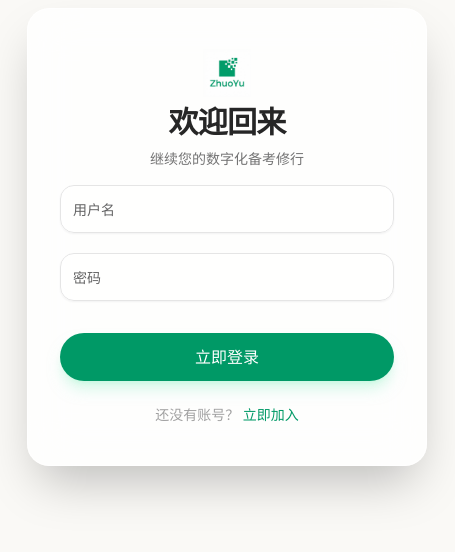
Test: LoginPage 集成测试 › 输入错误密码时，应显示服务器返回的错误信息
This screenshot has width=455, height=552.
Type "admin" into the field with placeholder "用户名" at (227, 209), box [60, 185, 394, 233]
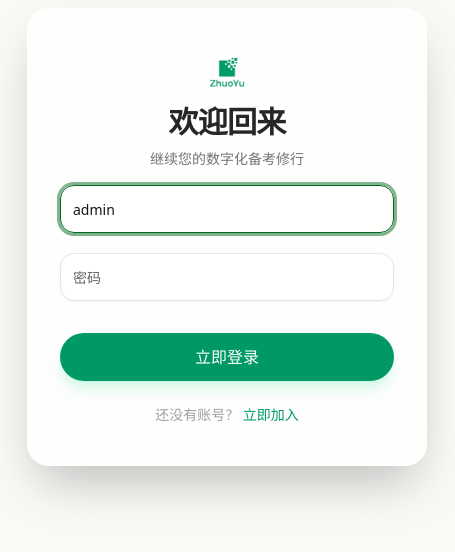
Type "wrong-password" into the password field with placeholder "密码" at (227, 277), box [60, 253, 394, 301]
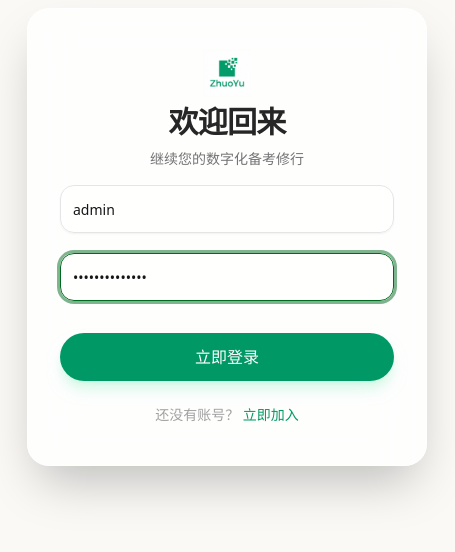
Click the button "立即登录" at (227, 357), box [60, 333, 394, 381]
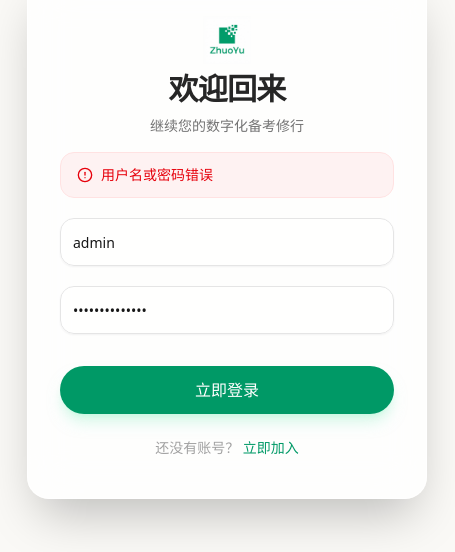
expect the text "用户名或密码错误" is shown: met, box [60, 152, 394, 198]
